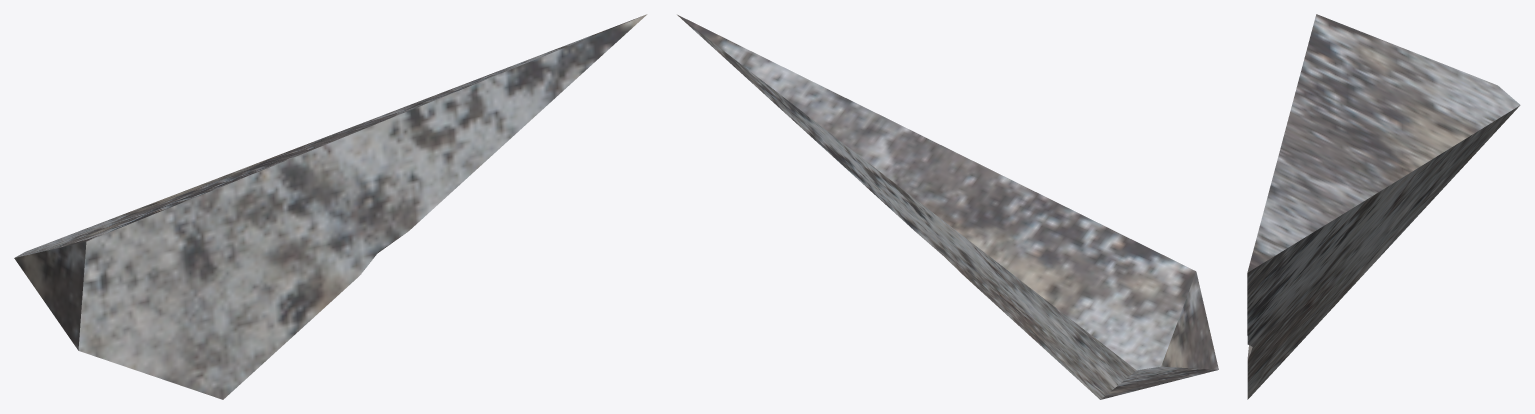
Rendered from Asteroid_Large_001_02_001_03_026.fbx.
3 views of the same model, side by side, from view 1: azimuth 30°, elevation 25°; view 2: azimuth 150°, elevation 25°; view 3: azimuth 270°, elevation 25° (orthographic). The views are drawn at different scales.
Parts seen in each view (by area): view 1: Asteroid_Large_001_02_001_03_026; view 2: Asteroid_Large_001_02_001_03_026; view 3: Asteroid_Large_001_02_001_03_026.
Part boxes in pixels (x1,y1,x2,y2): Asteroid_Large_001_02_001_03_026: [14, 14, 647, 399]; Asteroid_Large_001_02_001_03_026: [677, 14, 1218, 399]; Asteroid_Large_001_02_001_03_026: [1247, 14, 1520, 399].
Bounding box in the file's own units: 7.86 × 3.79 × 1.97.
